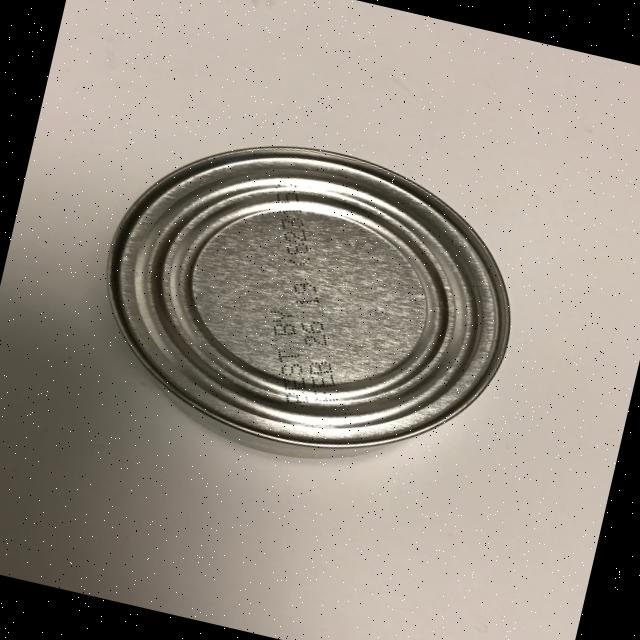metal: (71, 106, 542, 500)
